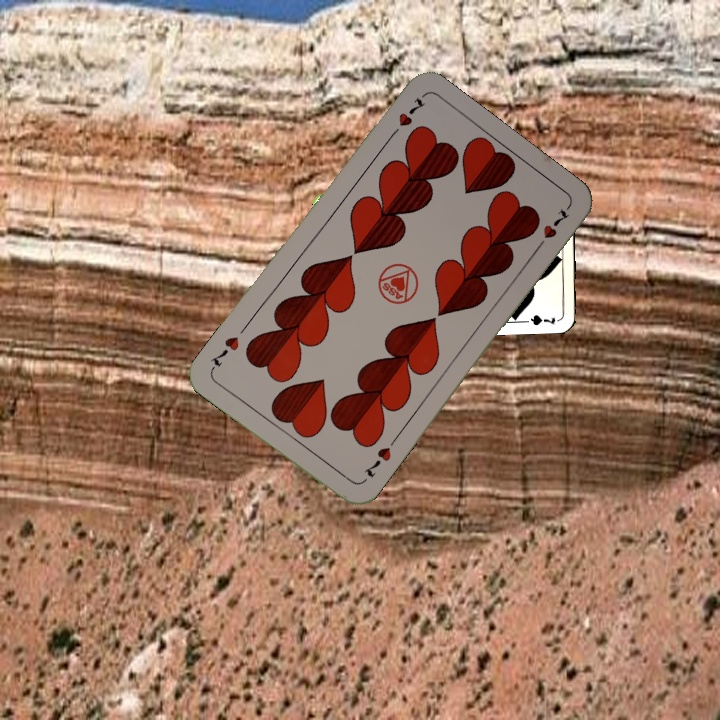H7: (384, 92, 428, 142), (359, 442, 394, 480)
